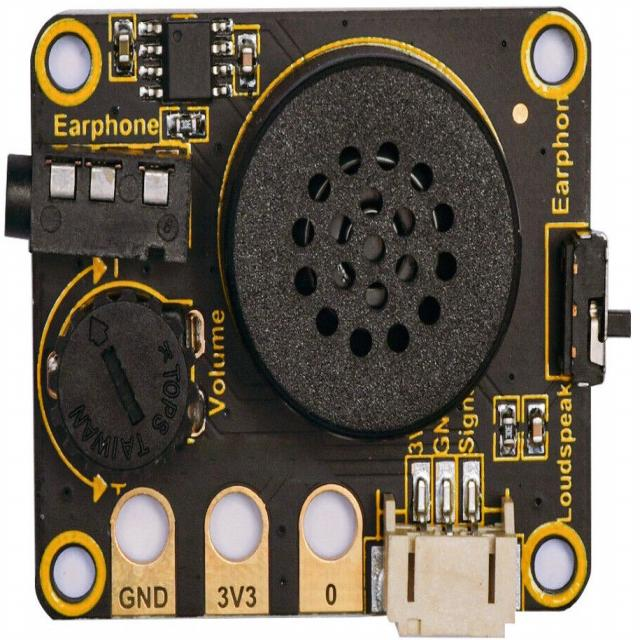2235: (546, 222, 634, 391)
IC: (147, 17, 227, 108)
buzzer: (234, 61, 512, 431)
capacitor 1V5: (529, 409, 549, 452), (116, 28, 130, 76), (238, 43, 257, 75)
connector -5v-: (0, 148, 202, 264), (383, 477, 518, 640)
potentiometer POT1: (52, 292, 203, 463)
resistor IR1: (160, 118, 210, 142), (500, 402, 515, 452)
